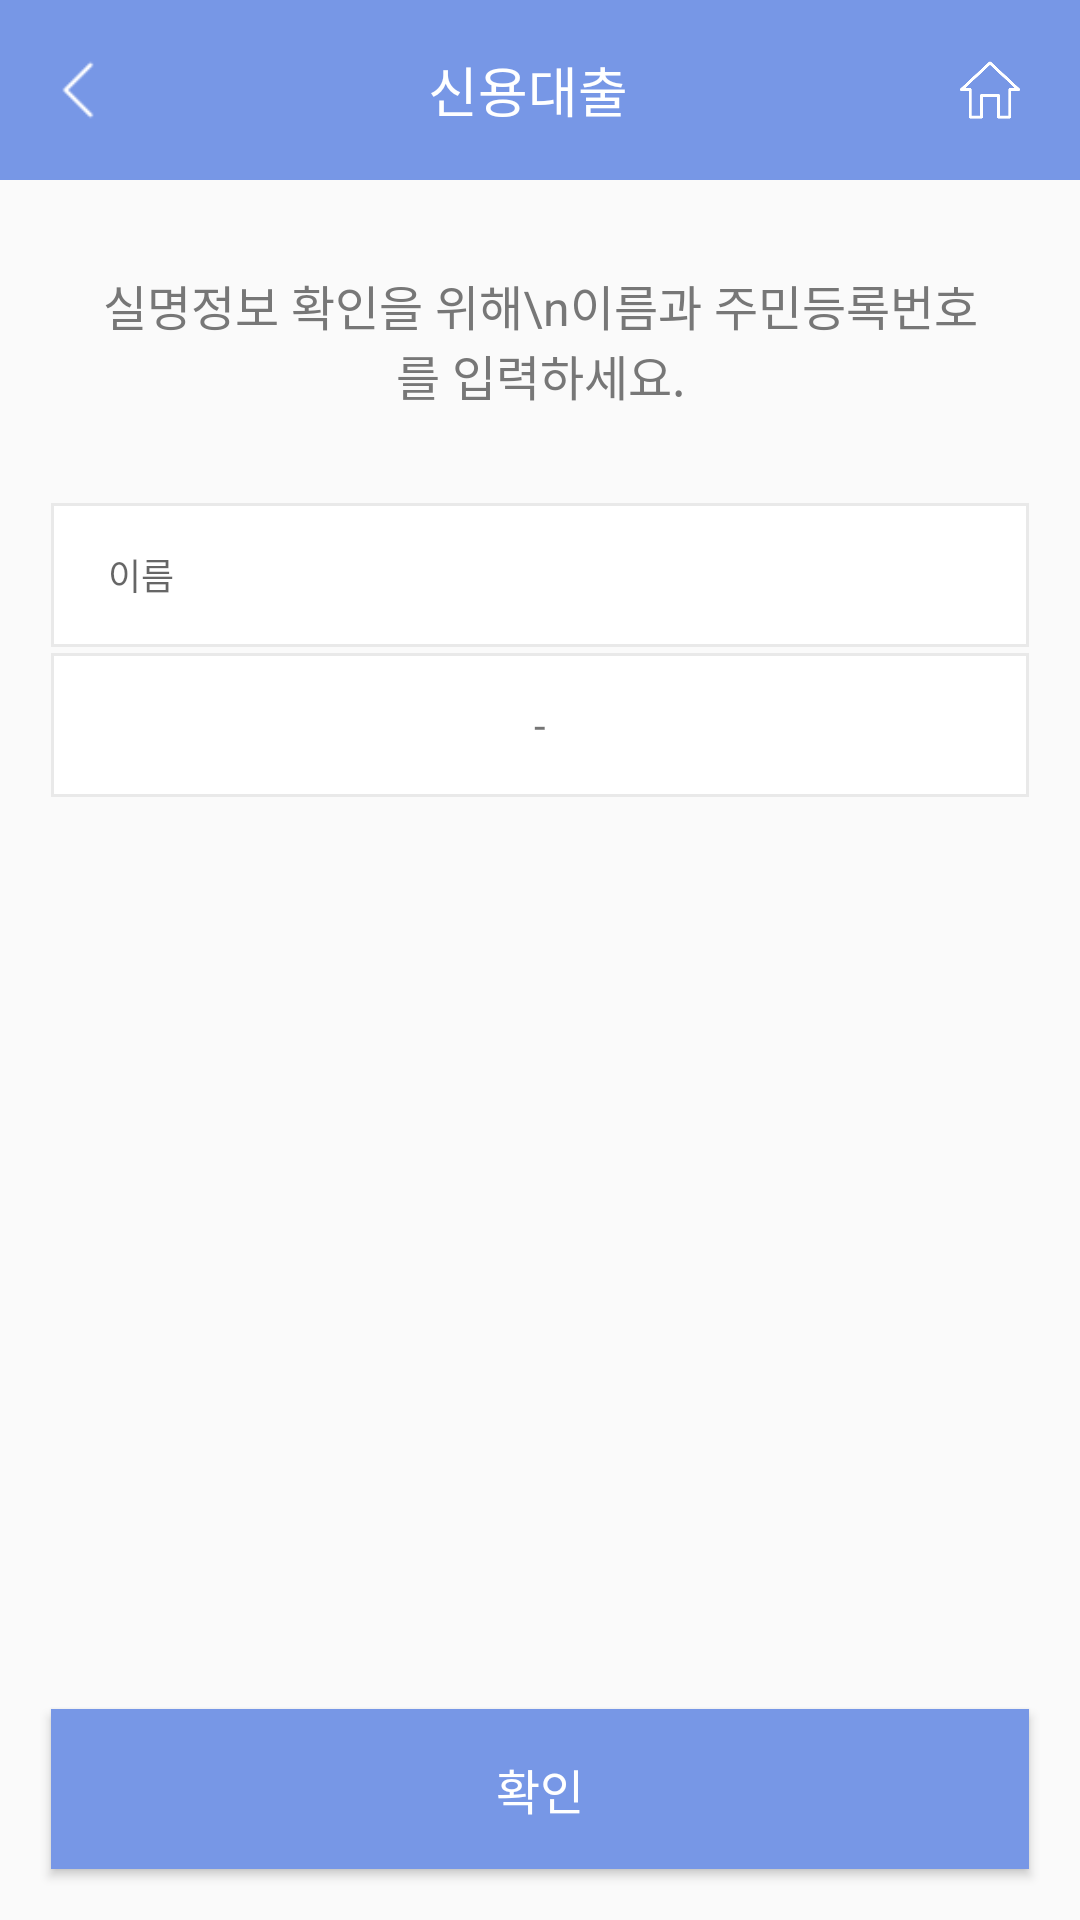

Screen size 1080px x 1920px. Icon name, then its box in pixels as (x1=x1, y1=y1, x2=x2, y2=y2):
top back: (x1=63, y1=62, x2=93, y2=118)
top home: (x1=960, y1=61, x2=1020, y2=119)
